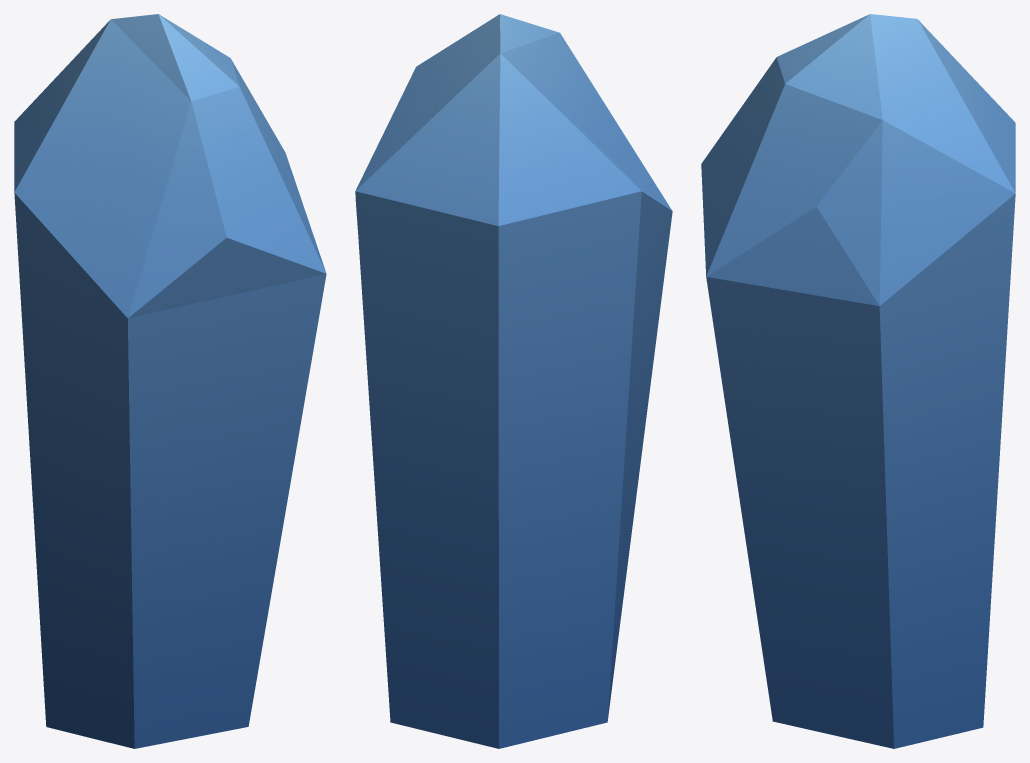
File: crystals_01.fbx
The picture shows the model from 3 angles, left to right: view 1: azimuth 30°, elevation 25°; view 2: azimuth 150°, elevation 25°; view 3: azimuth 270°, elevation 25°; orthographic projection.
Parts seen in each view (by area): view 1: crystal_01; view 2: crystal_01; view 3: crystal_01.
Part boxes in pixels (left/top/right/bottom): crystal_01: left=14, top=14, right=326, bottom=748; crystal_01: left=355, top=14, right=672, bottom=748; crystal_01: left=701, top=14, right=1015, bottom=748.
Bounding box in the file's own units: 3.44 × 7.94 × 3.29.
Materials: 1 (1 with a texture image).
